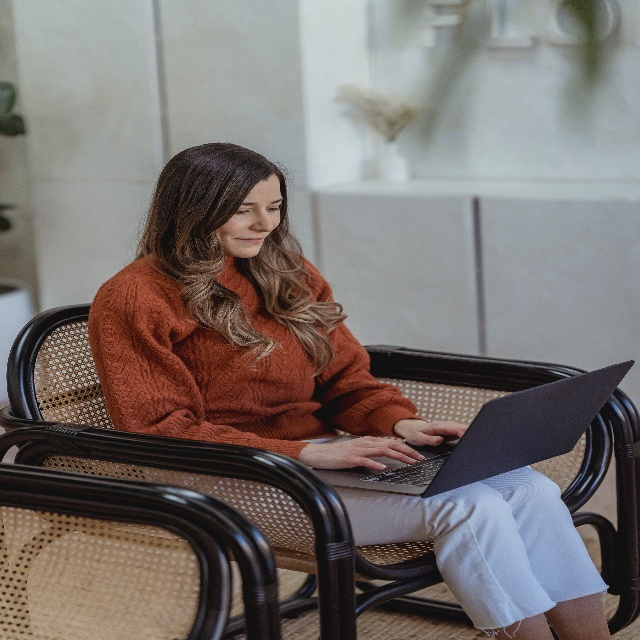Sin_guantes: (312, 438, 424, 478), (394, 416, 468, 443)
